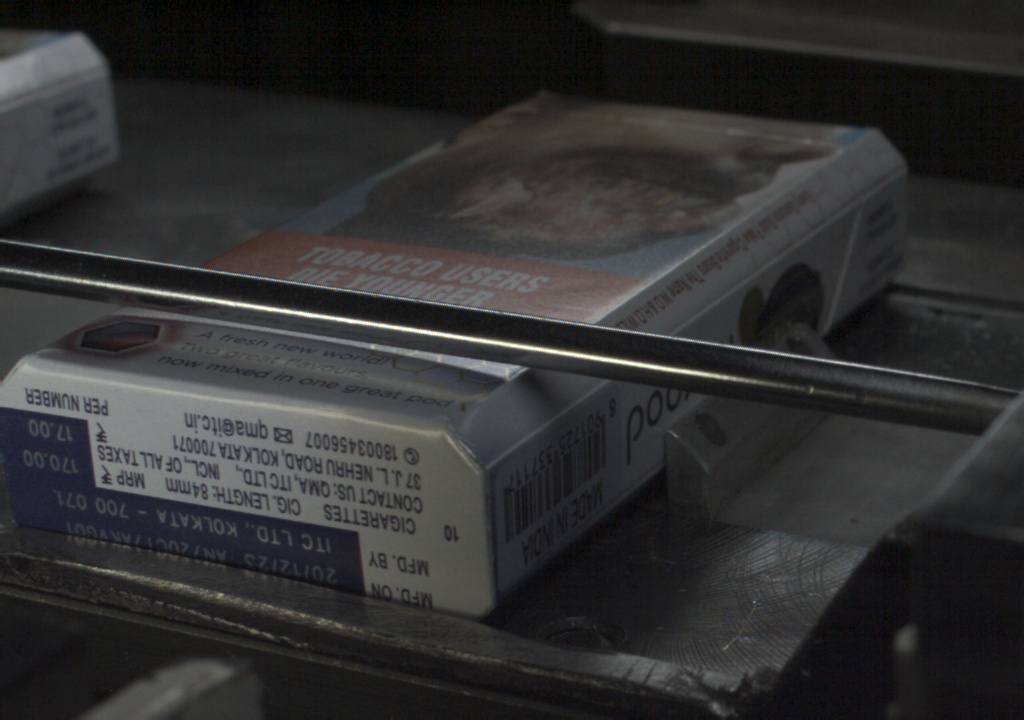g_bottom: (4, 362, 484, 621)
g_label: (2, 489, 363, 595)
g_lmiter: (769, 203, 863, 270), (676, 273, 768, 336), (480, 424, 545, 469), (549, 379, 608, 424)
g_miter: (867, 164, 914, 202)
price: (2, 416, 95, 485)
